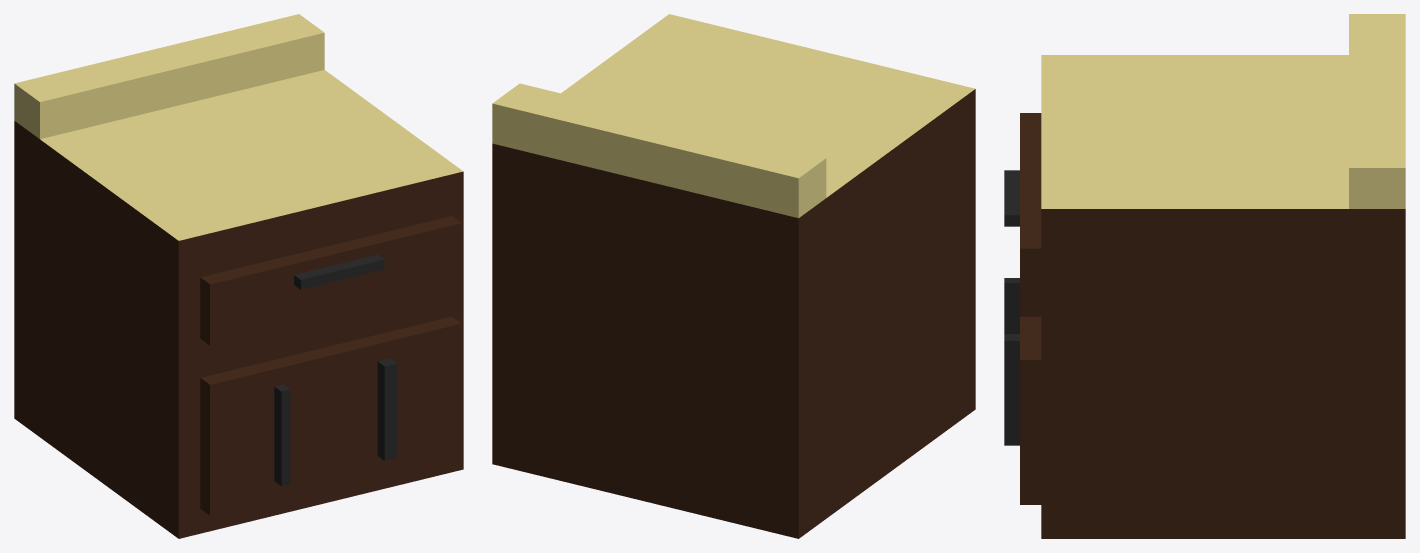
File: better_counter.fbx
The picture shows the model from 3 angles, left to right: view 1: azimuth 30°, elevation 25°; view 2: azimuth 150°, elevation 25°; view 3: azimuth 270°, elevation 25°; orthographic projection. The views are drawn at different scales.
Parts seen in each view (by area): view 1: Cube; view 2: Cube; view 3: Cube.
Part boxes in pixels (x1,y1,x2,y2): Cube: (14,14,463,538); Cube: (492,14,975,538); Cube: (1004,14,1405,538).
Bounding box in the file's own units: 200 × 225 × 220.
